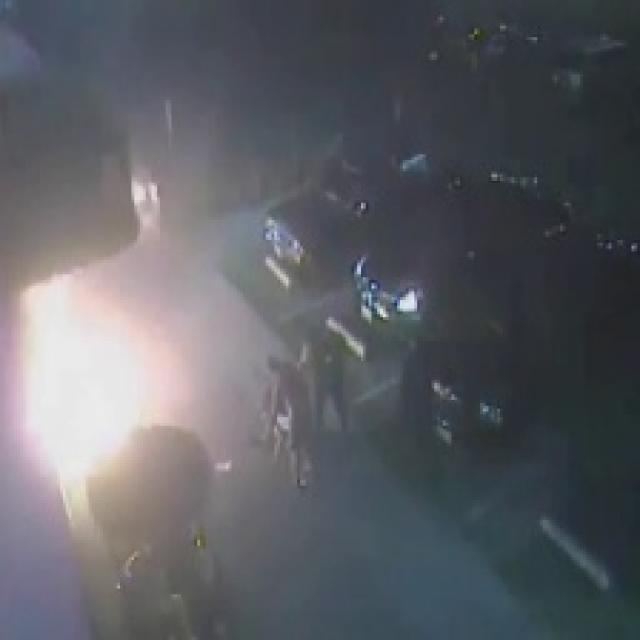fire: (10, 286, 160, 470)
